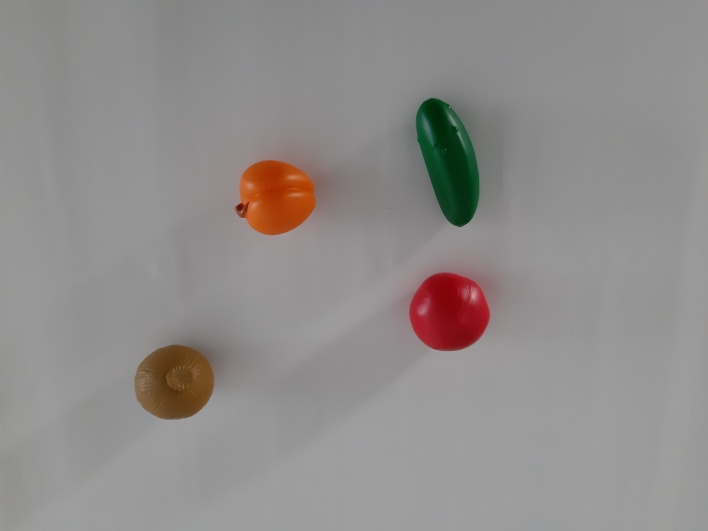apricot: (226, 145, 332, 263)
cucumber: (392, 82, 513, 246)
onion: (114, 322, 235, 433)
tomato: (392, 260, 518, 366)
